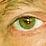eye: (19, 18, 35, 29)
